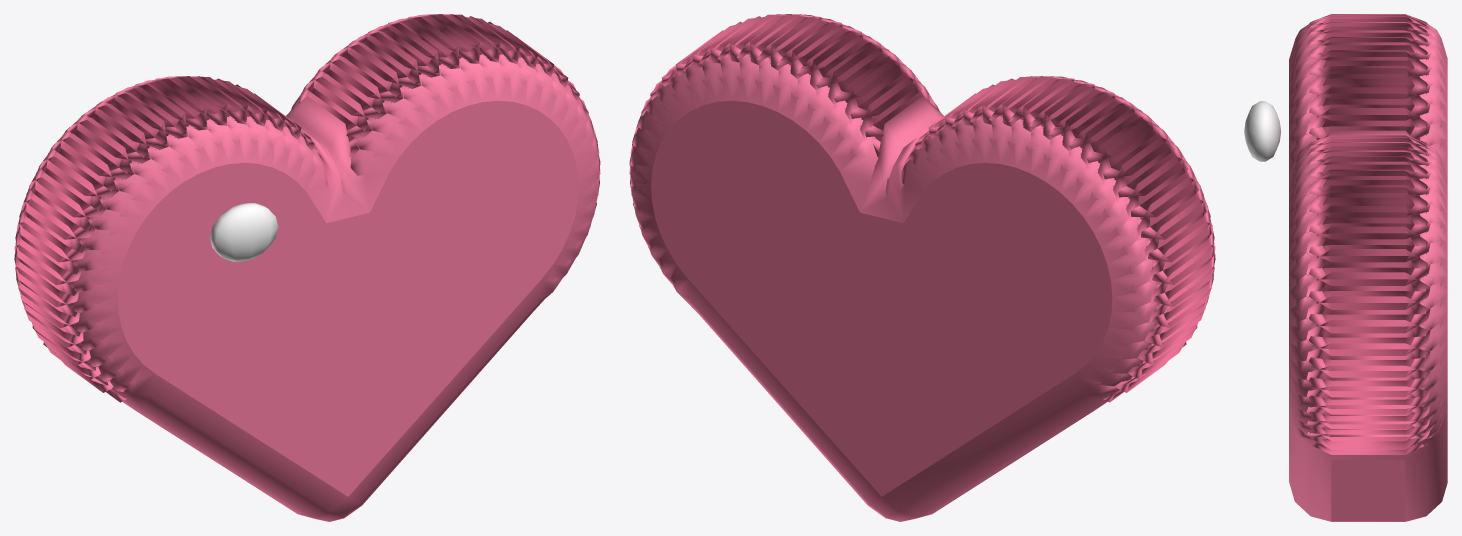
File: heart.glb
The picture shows the model from 3 angles, left to right: view 1: azimuth 30°, elevation 25°; view 2: azimuth 150°, elevation 25°; view 3: azimuth 270°, elevation 25°; orthographic projection. The views are drawn at different scales.
Parts seen in each view (by area): view 1: heart.001, shine; view 2: heart.001; view 3: heart.001, shine.
Part boxes in pixels (x1=…): heart.001: x1=14, y1=14, x2=600, y2=521; shine: x1=210, y1=203, x2=278, y2=261; heart.001: x1=629, y1=14, x2=1215, y2=521; heart.001: x1=1289, y1=14, x2=1447, y2=521; shine: x1=1244, y1=101, x2=1281, y2=161.
Bounding box in the file's own units: 1.15 × 0.8921 × 0.385.
